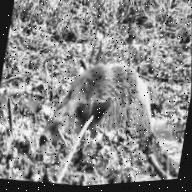boar: (32, 40, 167, 163)
